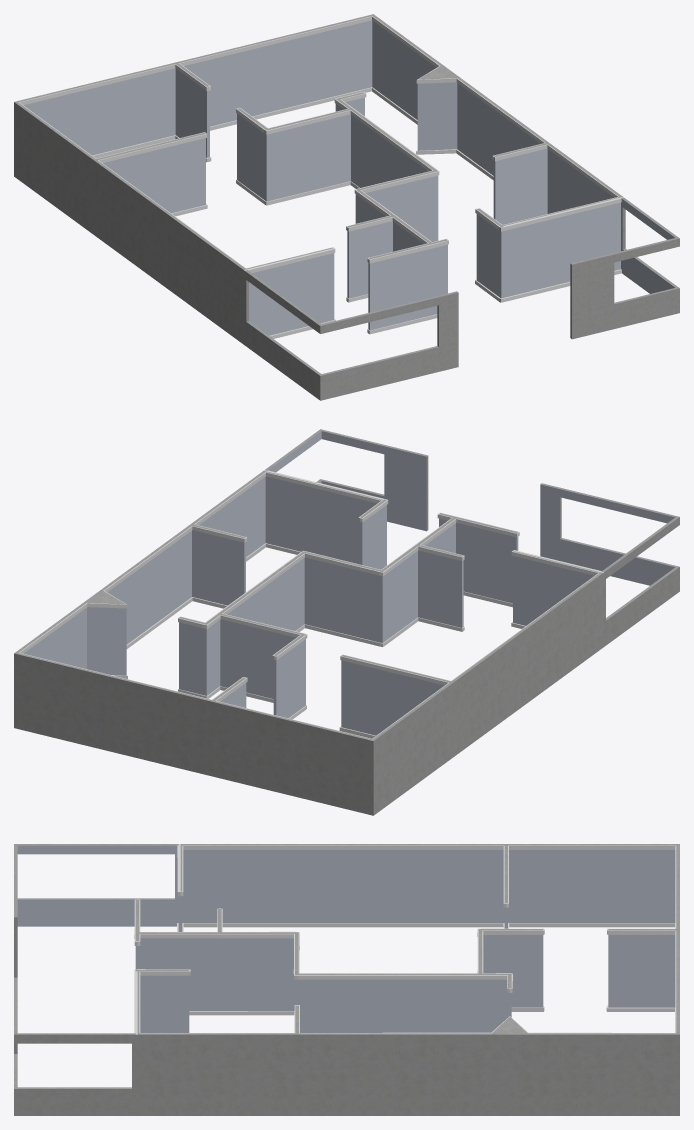
The model's file is walls.glb.
The picture shows the model from 3 angles, top to bottom: view 1: azimuth 30°, elevation 25°; view 2: azimuth 150°, elevation 25°; view 3: azimuth 270°, elevation 25°; orthographic projection. The views are drawn at different scales.
Parts seen in each view (by area): view 1: walls; view 2: walls; view 3: walls.
Boxes of the visible parts, x1,y1,x2,y2 form: walls: (14, 14, 679, 400); walls: (14, 429, 679, 815); walls: (14, 844, 679, 1115).
Size of the model in its own units: 12.6 by 2.5 by 18.6.
3 materials, 1 textured.
